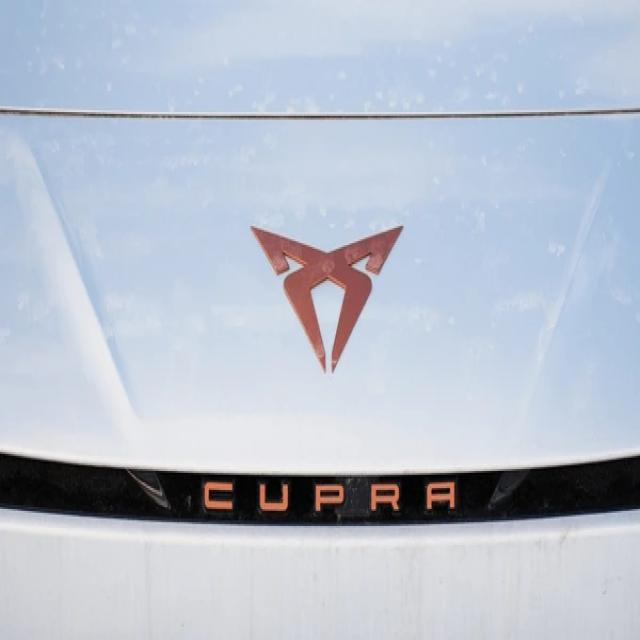cupra: (245, 197, 409, 389)
